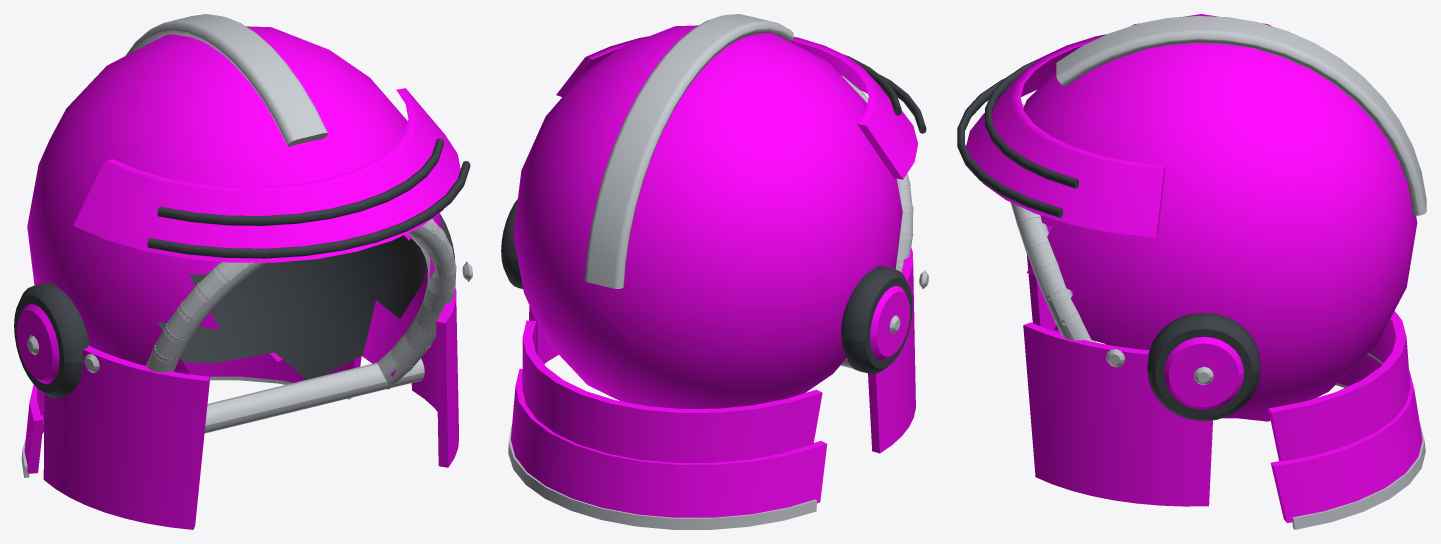
File: porte_armure2_casque.glb
3 views of the same model, side by side, from view 1: azimuth 30°, elevation 25°; view 2: azimuth 150°, elevation 25°; view 3: azimuth 270°, elevation 25° (orthographic). The views are drawn at different scales.
Visible parts, largest first — view 1: tete__casque_teinte.006, tete__casque_teinte_sombre.006, tete__casque_rivet.004; view 2: tete__casque_teinte.006, tete__casque_rivet.004, tete__casque_teinte_sombre.006; view 3: tete__casque_teinte.006, tete__casque_rivet.004, tete__casque_teinte_sombre.006.
Boxes of the visible parts, x1,y1,x2,y2 form: tete__casque_teinte.006: (16, 26, 460, 529); tete__casque_teinte_sombre.006: (14, 138, 470, 398); tete__casque_rivet.004: (21, 14, 472, 477); tete__casque_teinte.006: (511, 25, 917, 517); tete__casque_rivet.004: (508, 14, 928, 529); tete__casque_teinte_sombre.006: (501, 54, 926, 374); tete__casque_teinte.006: (966, 14, 1422, 522); tete__casque_rivet.004: (1010, 15, 1426, 529); tete__casque_teinte_sombre.006: (957, 57, 1260, 421).
Bounding box in the file's own units: 0.368 × 0.377 × 0.3736.
